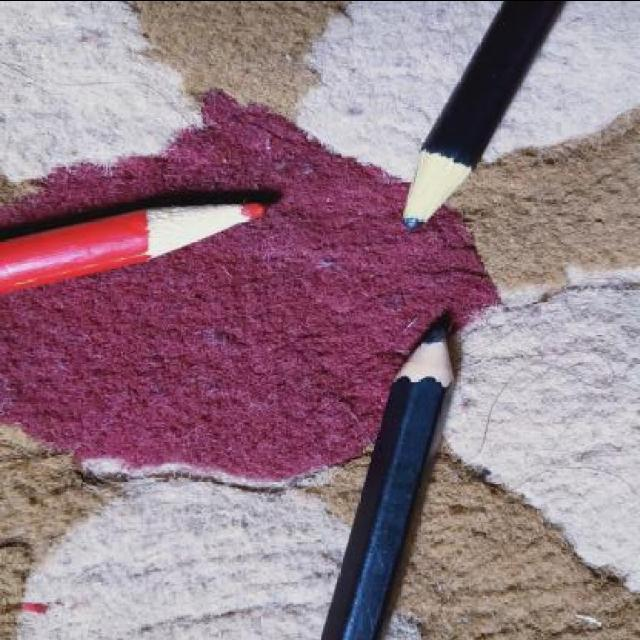Pencil: (116, 192, 278, 264), (384, 139, 478, 236), (386, 302, 464, 396)
